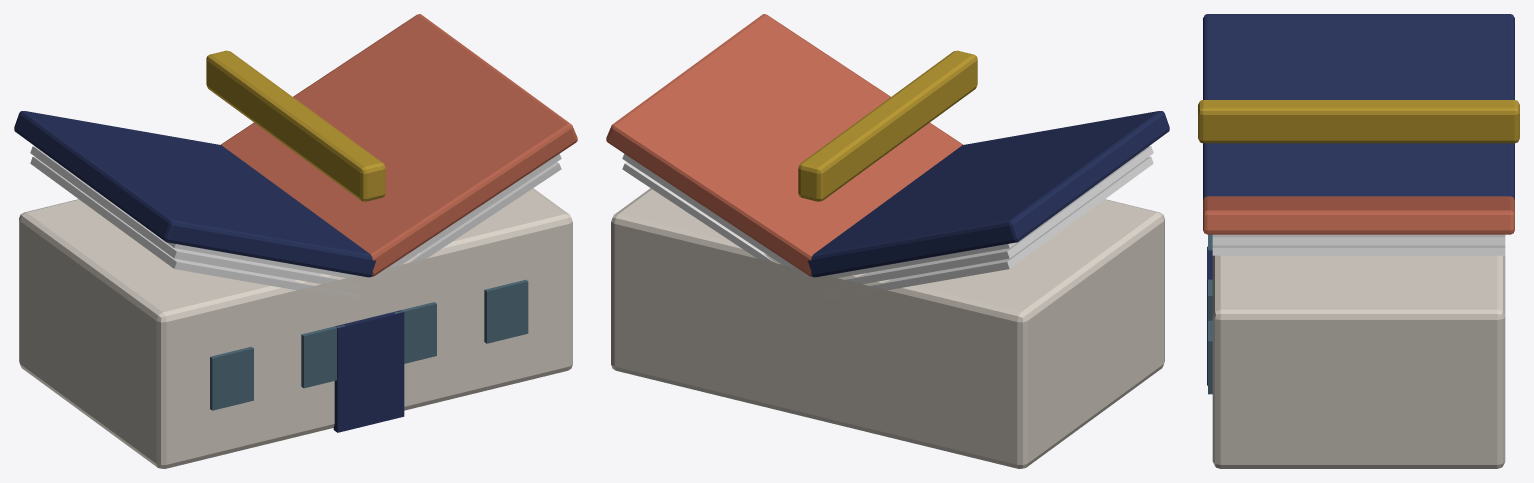
3 renders of one model, left to right at view 1: azimuth 30°, elevation 25°; view 2: azimuth 150°, elevation 25°; view 3: azimuth 270°, elevation 25°, orthographic.
Visible parts, largest first — view 1: lm_13; view 2: lm_13; view 3: lm_13.
Part boxes in pixels (x1=…): lm_13: x1=14, y1=14, x2=577, y2=468; lm_13: x1=606, y1=14, x2=1169, y2=468; lm_13: x1=1198, y1=14, x2=1519, y2=468.
Bounding box in the file's own units: 0.5 × 0.3 × 0.33.
